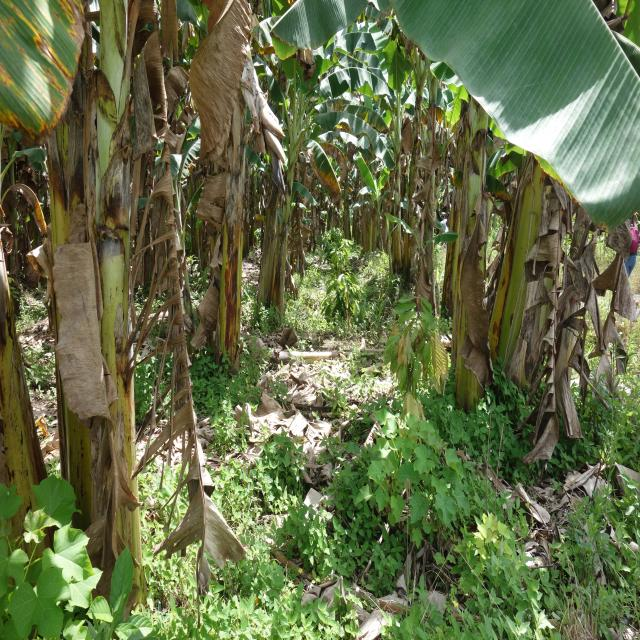Banana-plant: (38, 1, 96, 552), (96, 0, 141, 612), (449, 72, 490, 416), (217, 18, 248, 363), (498, 153, 540, 406), (266, 82, 306, 316)
